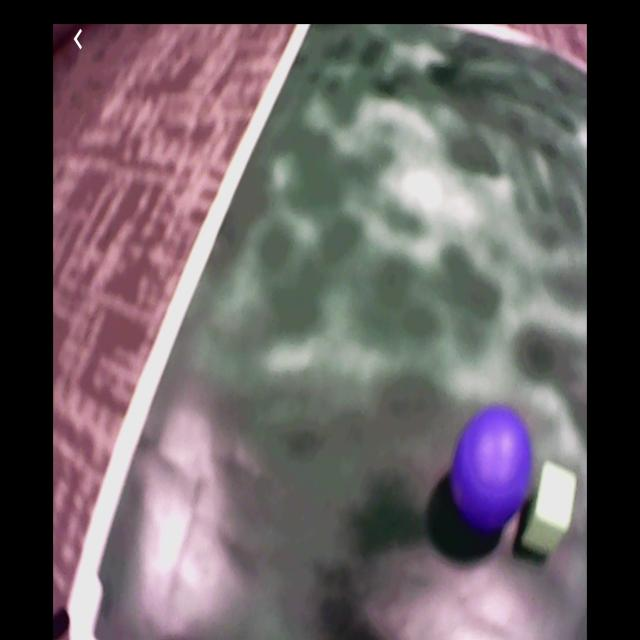ball: (455, 408, 534, 528)
